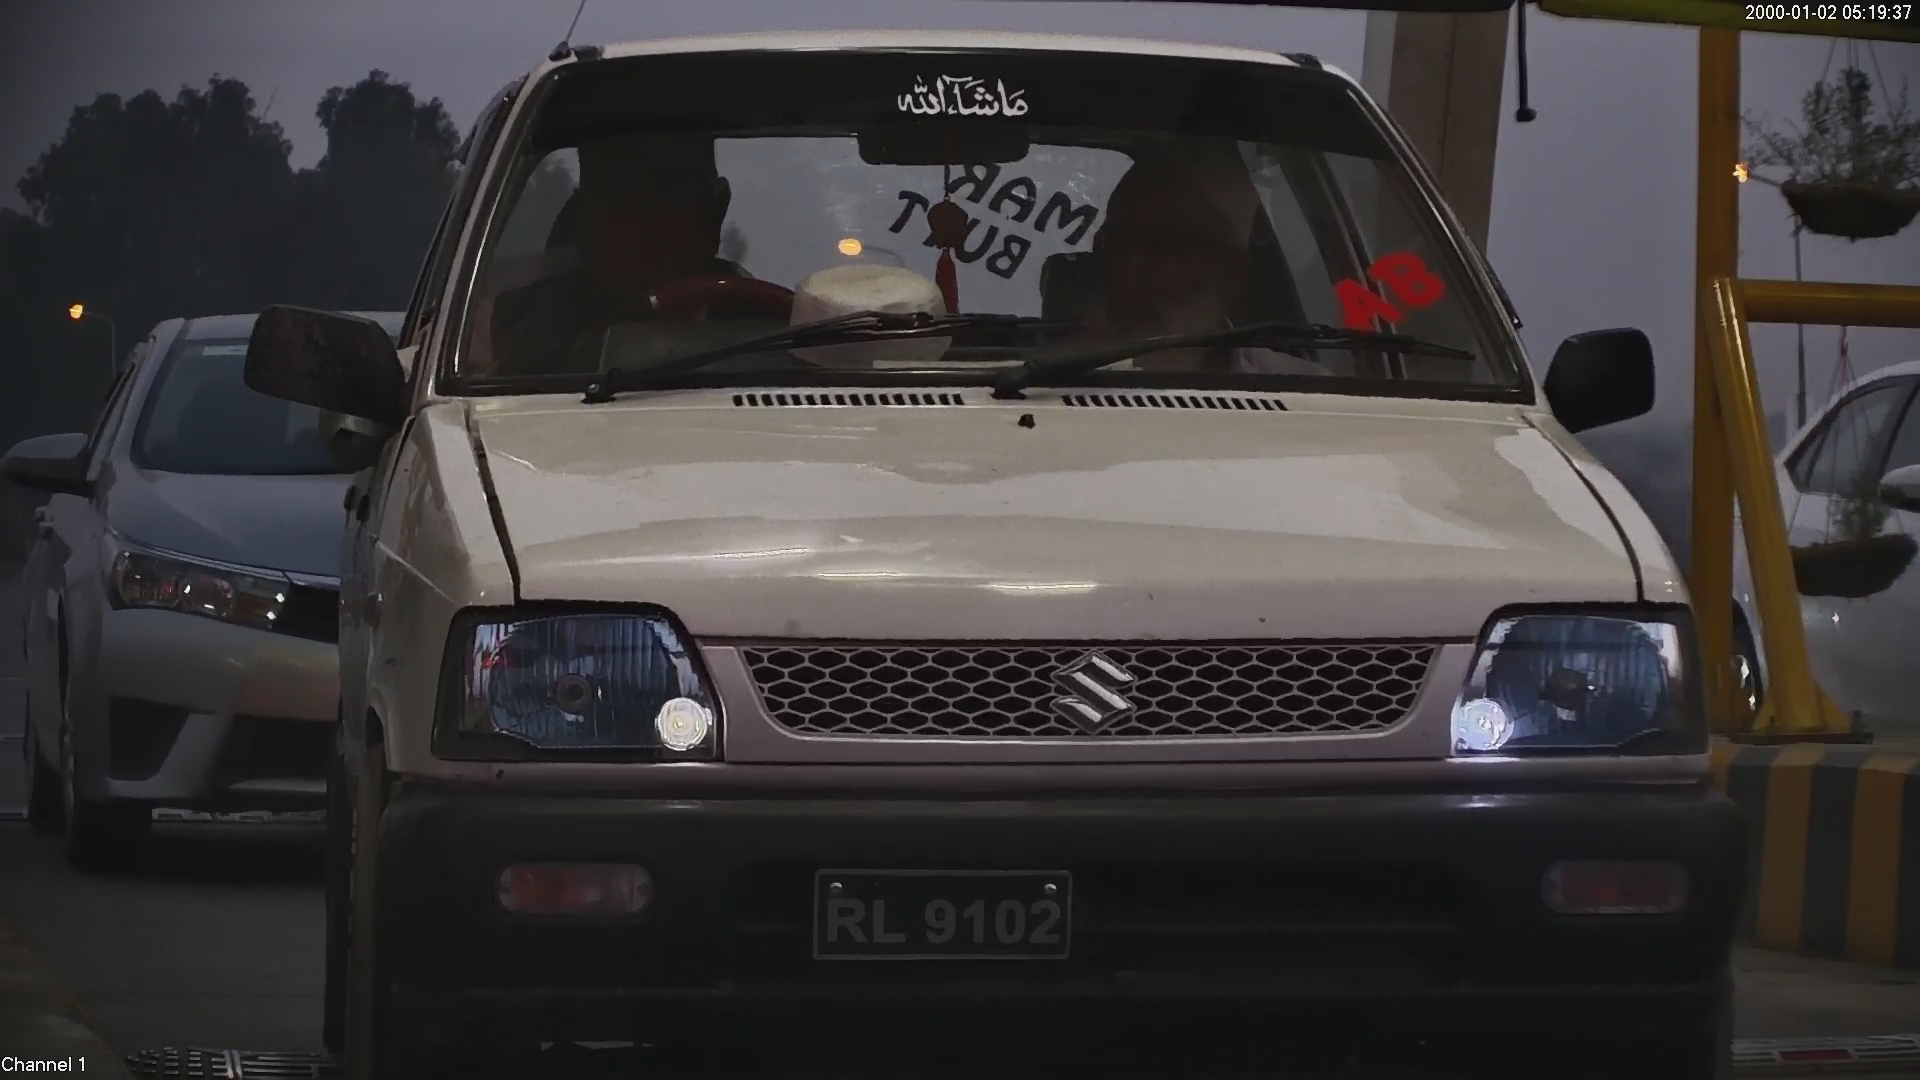Number_Plate: (803, 853, 1082, 976)
